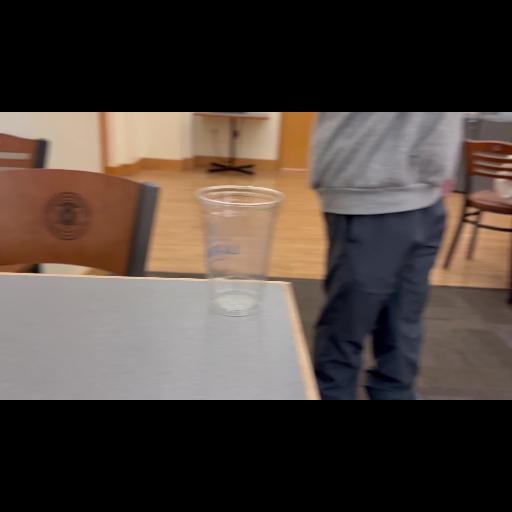lp_plastic_cup: (194, 185, 284, 317)
